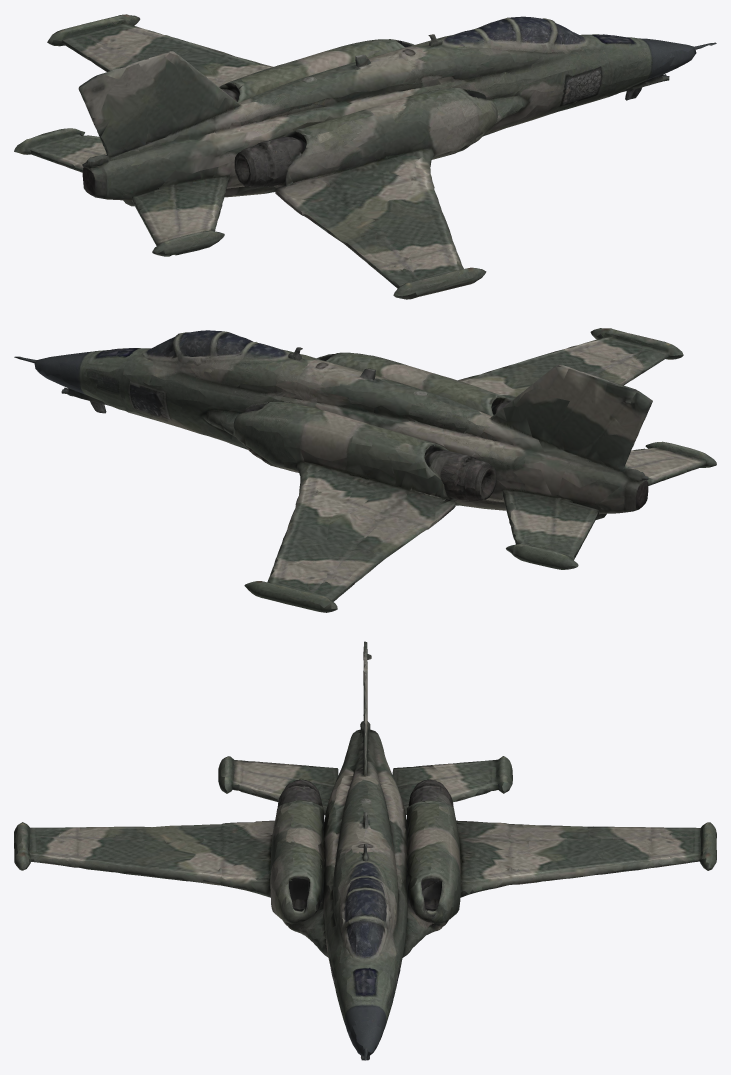
File: fh_plane_grach2_meshy.glb
3 renders of one model, top to bottom at view 1: azimuth 30°, elevation 25°; view 2: azimuth 150°, elevation 25°; view 3: azimuth 270°, elevation 25°, orthographic.
Visible parts, largest first — view 1: GLTF; view 2: GLTF; view 3: GLTF.
Part boxes in pixels (box(x1,y1,x2,y2)): GLTF: box(14, 14, 716, 299); GLTF: box(14, 328, 716, 612); GLTF: box(14, 641, 716, 1060).
Size of the model in its own units: 1 by 0.2467 by 0.9621.
1 material, 1 textured.
